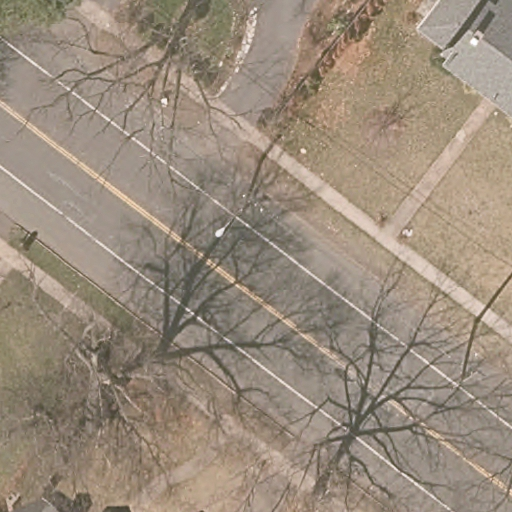DT: (213, 179, 274, 238), (445, 321, 488, 390)
